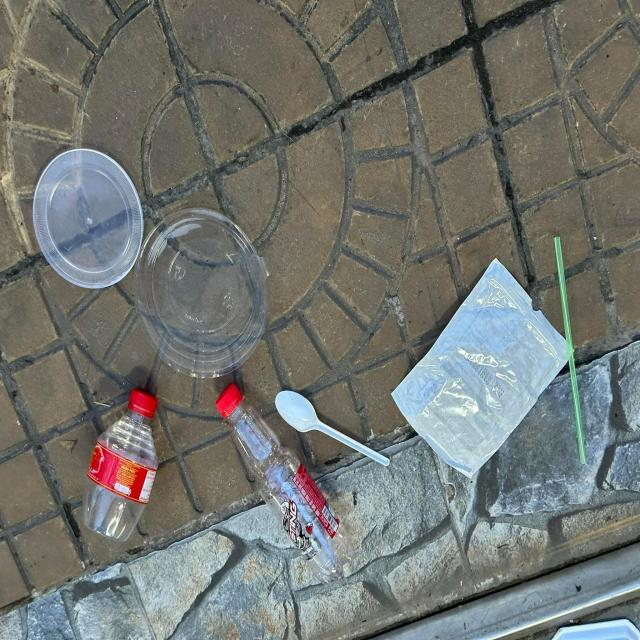bottle: (216, 383, 356, 584), (82, 387, 159, 542)
drinking straw: (554, 237, 586, 464)
lid: (134, 206, 268, 379), (32, 148, 144, 288)
plastic utensil: (275, 391, 390, 466)
snack package: (391, 257, 574, 478)
